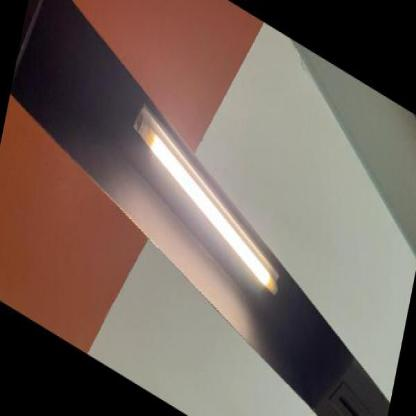light_on: (105, 82, 304, 304)
